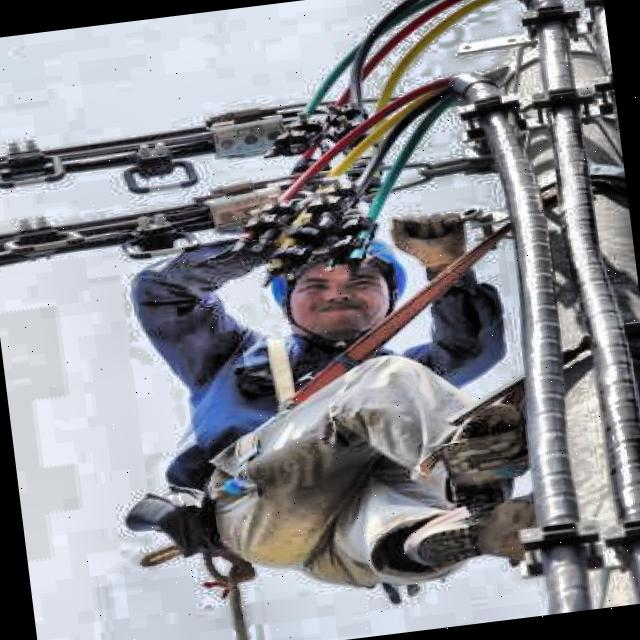helmet: (254, 218, 434, 355)
